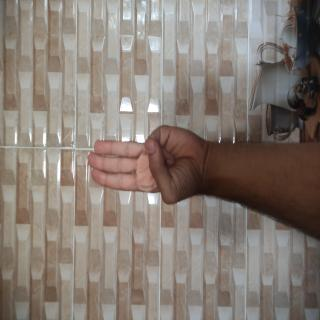THA: (85, 114, 151, 289)
